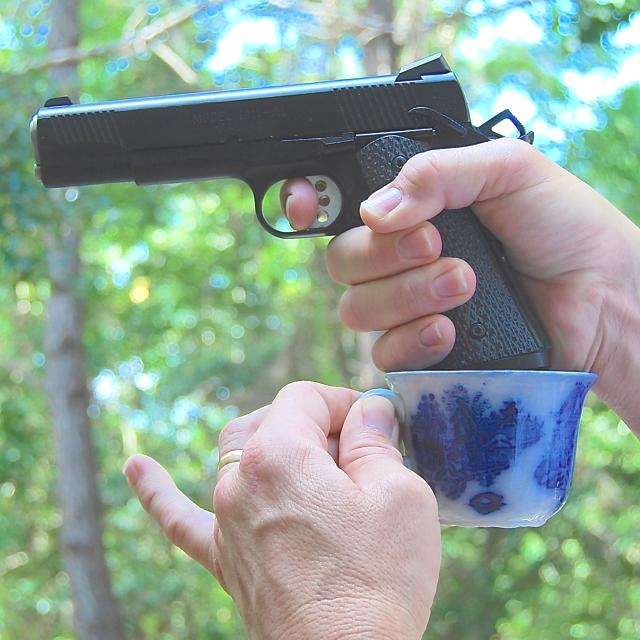pistol: (28, 51, 550, 370)
